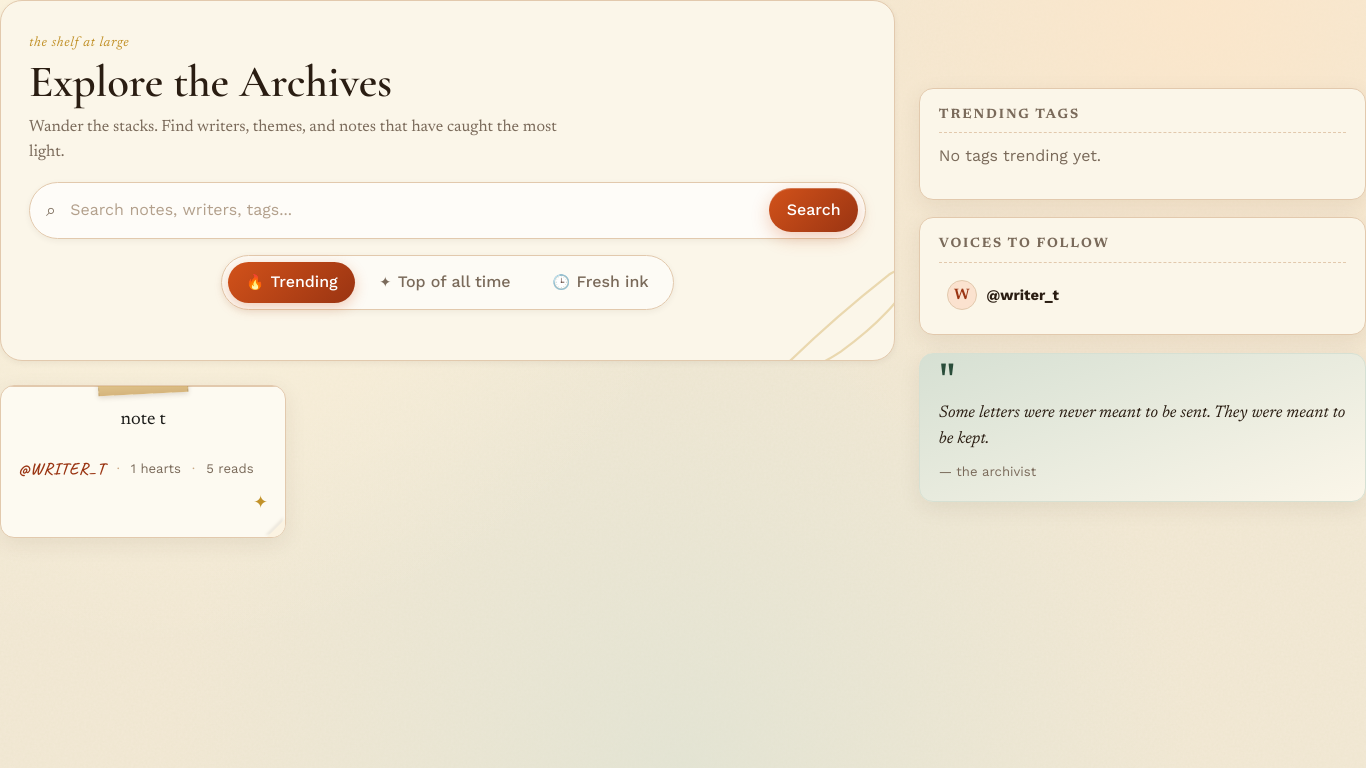
Test: ExplorePage › switches to the /feed endpoint when a different sort is chosen
Expected: the text "note t" is shown, left=121, top=410, right=166, bottom=429
Click the button "🕒 Fresh ink" at (600, 283), box left=535, top=262, right=666, bottom=303
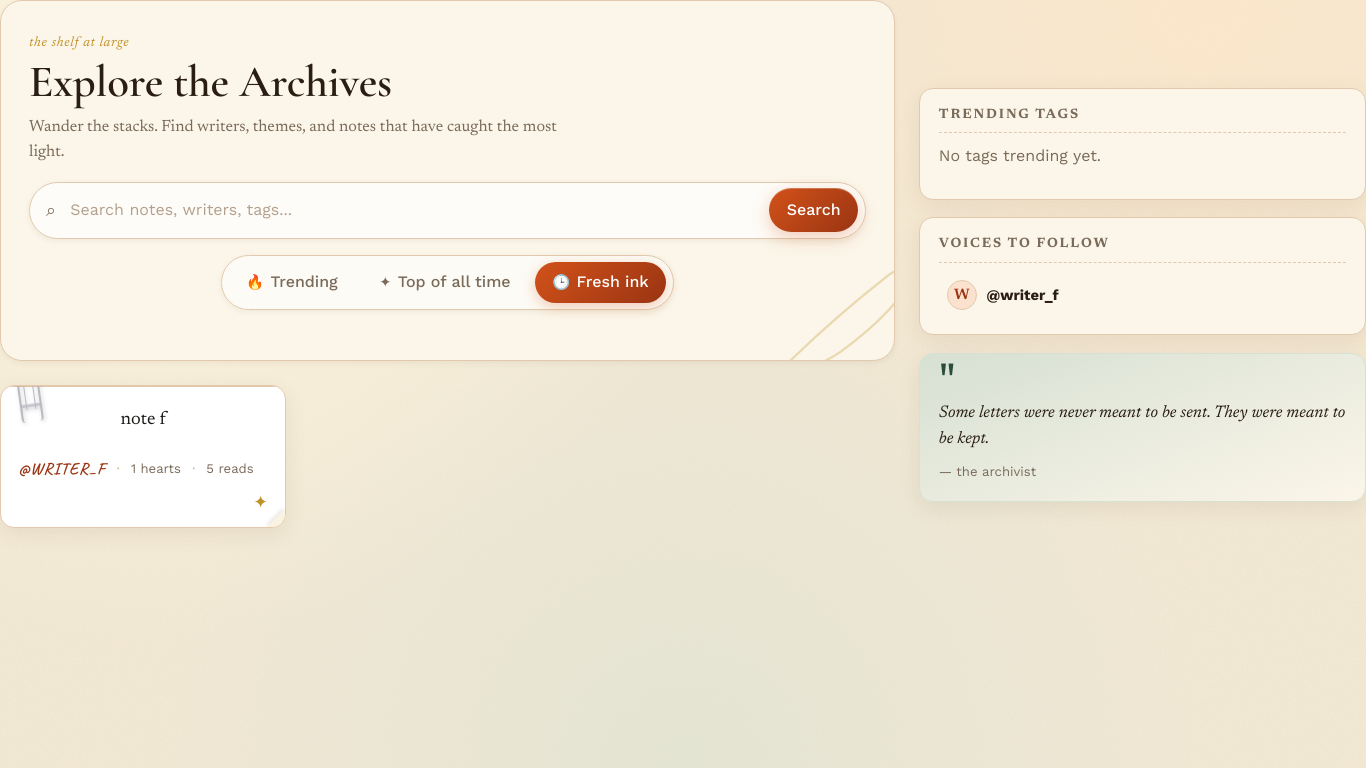
Result: the text "note f" is shown at left=120, top=410, right=166, bottom=429
